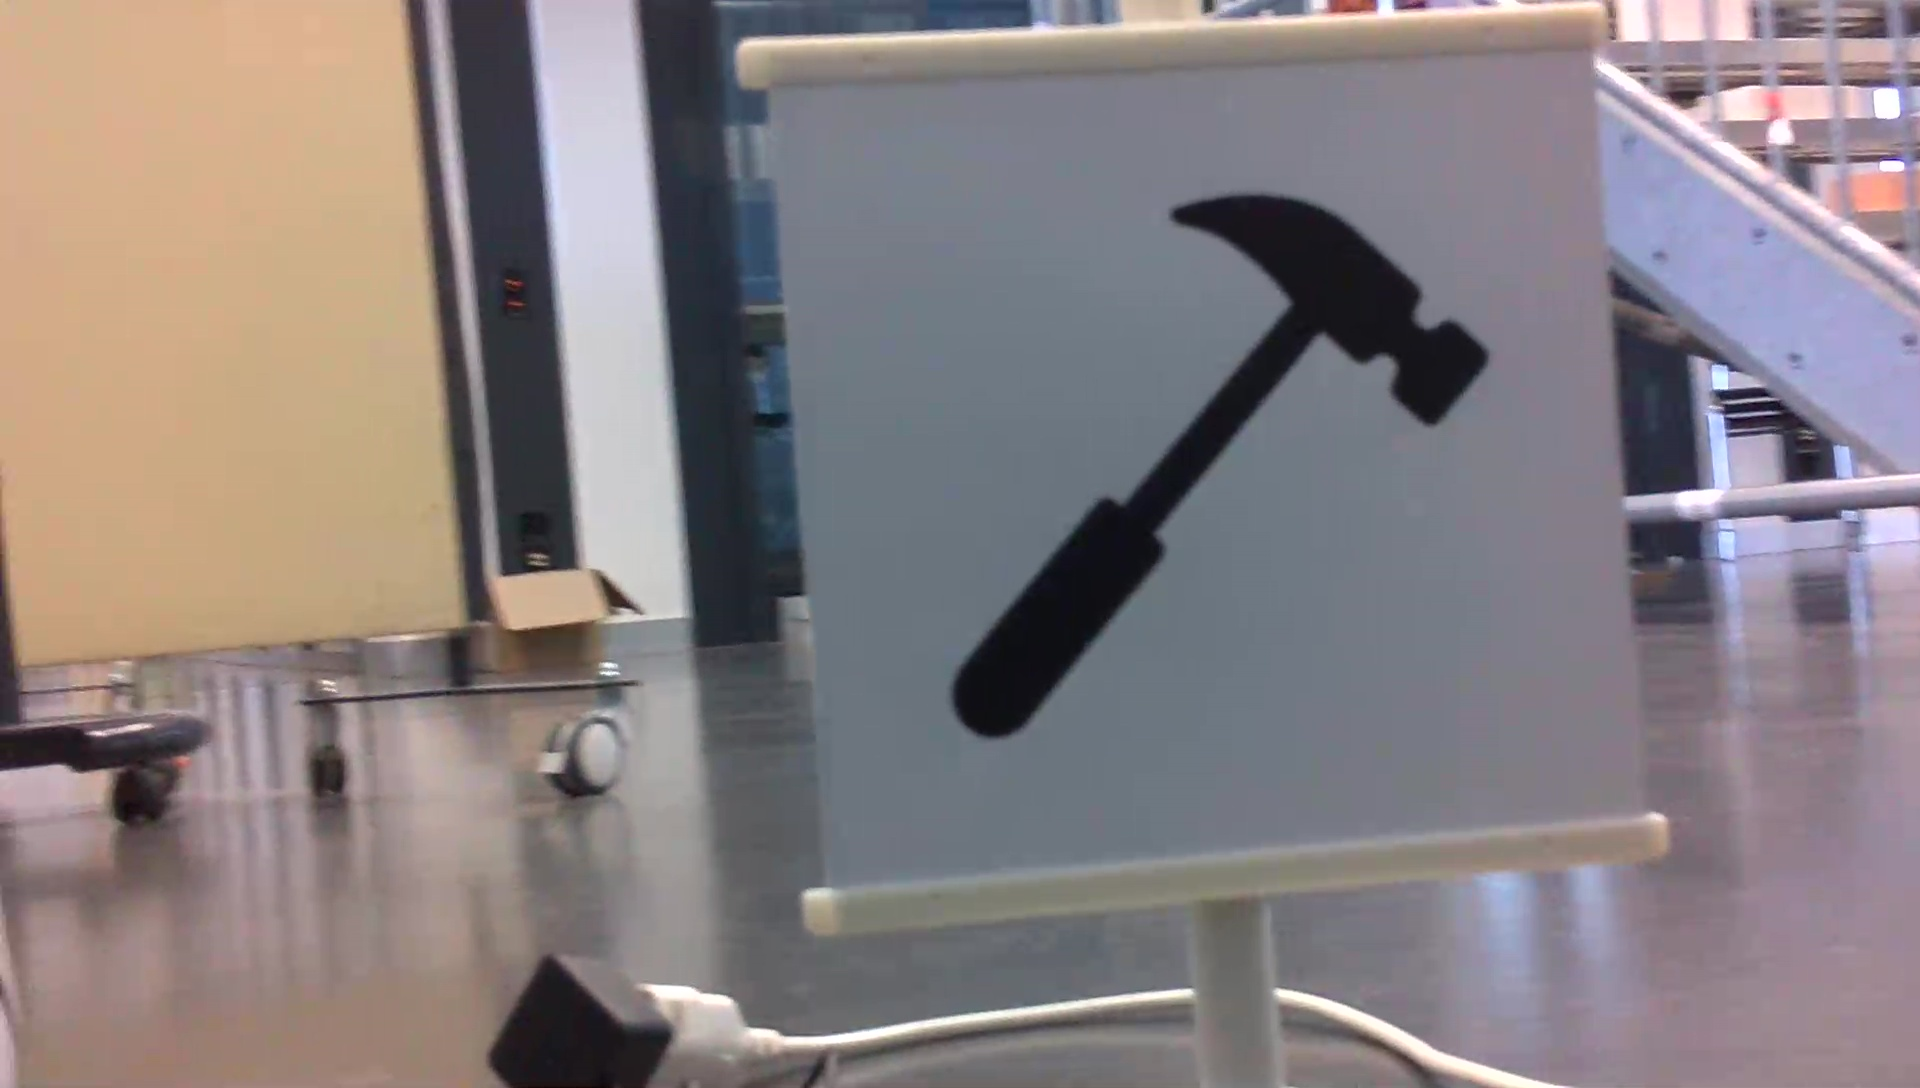hammer: (942, 187, 1501, 745)
